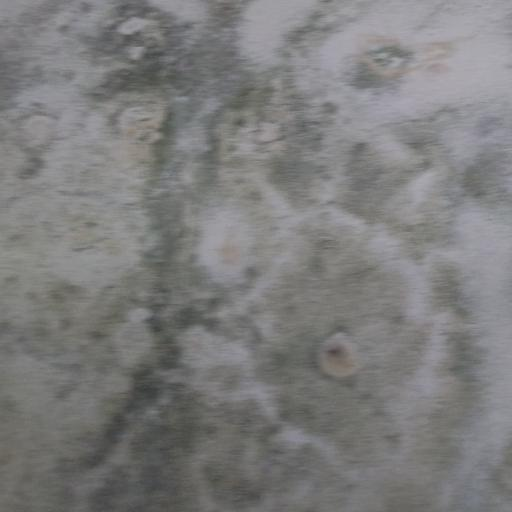algae: (51, 31, 391, 483)
